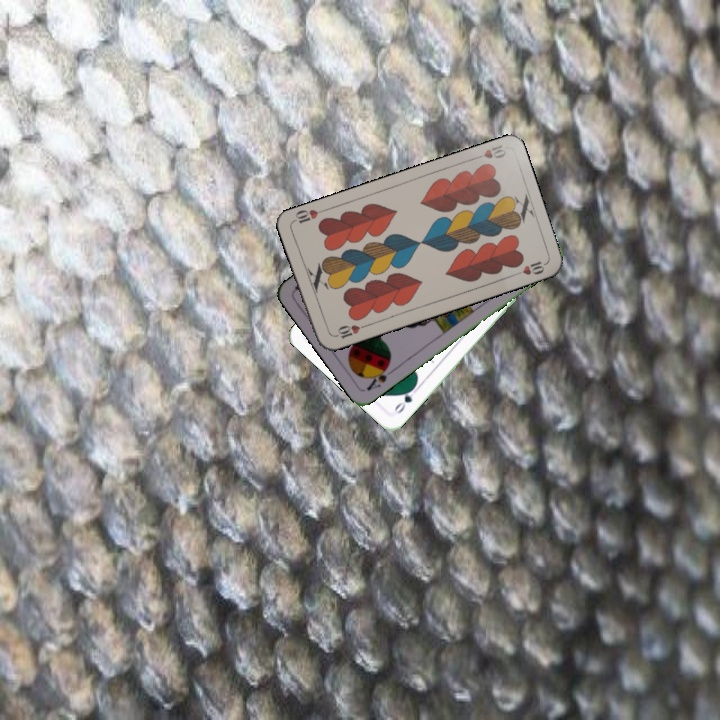GO: (389, 382, 418, 416)
H10: (469, 141, 509, 163), (330, 321, 369, 342)
SA: (362, 359, 398, 393)
